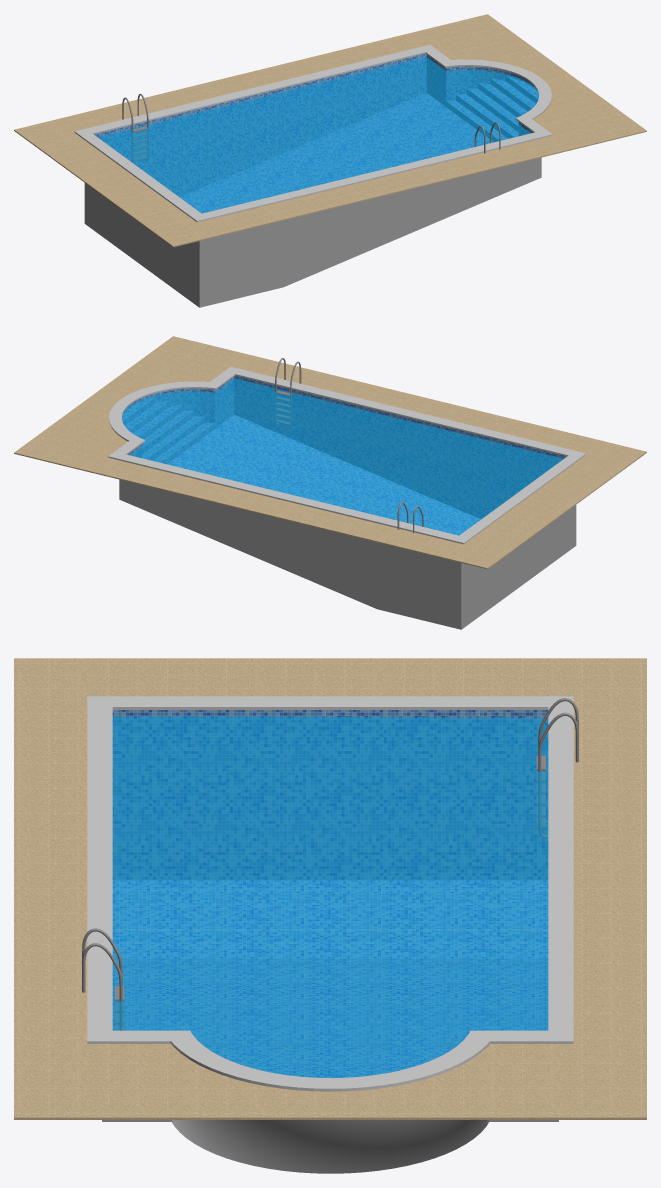
File: swimming_pool_343.glb
3 views of the same model, one above another, from view 1: azimuth 30°, elevation 25°; view 2: azimuth 150°, elevation 25°; view 3: azimuth 270°, elevation 25° (orthographic). The views are drawn at different scales.
Parts seen in each view (by area): view 1: Object_7, Object_3, Object_2, Object_5, Object_4, Object_6; view 2: Object_7, Object_3, Object_2, Object_5, Object_4, Object_6; view 3: Object_7, Object_3, Object_2, Object_4, Object_5, Object_6.
Part boxes in pixels (x1,y1,x2,y2): Object_7: (94,53,538,213); Object_3: (98,57,538,213); Object_2: (14,14,646,247); Object_5: (84,157,541,307); Object_4: (74,45,552,222); Object_6: (122,93,500,162); Object_7: (122,375,566,535); Object_3: (122,378,563,535); Object_2: (14,336,646,569); Object_5: (119,479,576,629); Object_4: (108,367,586,544); Object_6: (275,358,423,533); Object_7: (112,710,548,1077); Object_3: (112,716,548,1077); Object_2: (14,658,646,1119); Object_4: (87,696,573,1091); Object_5: (102,1120,558,1173); Object_6: (82,698,578,1030).
Bounding box in the file's own units: 1713 × 395 × 998.
Materials: 6 (2 with a texture image).
